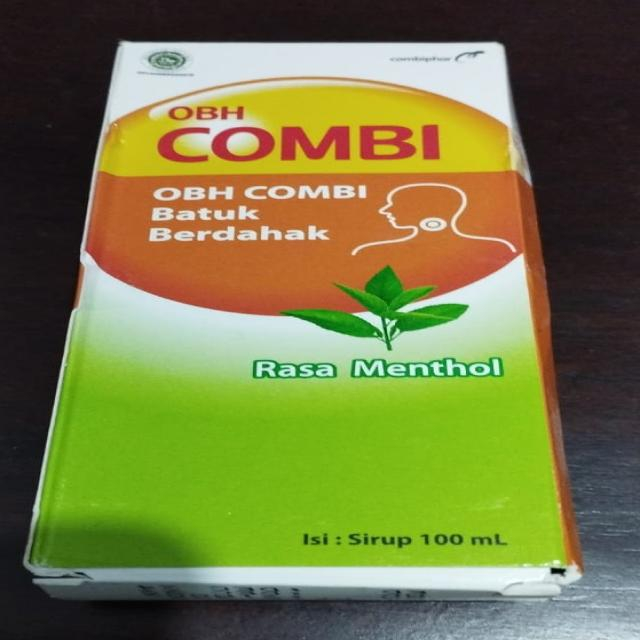Organik: (24, 44, 585, 602)
